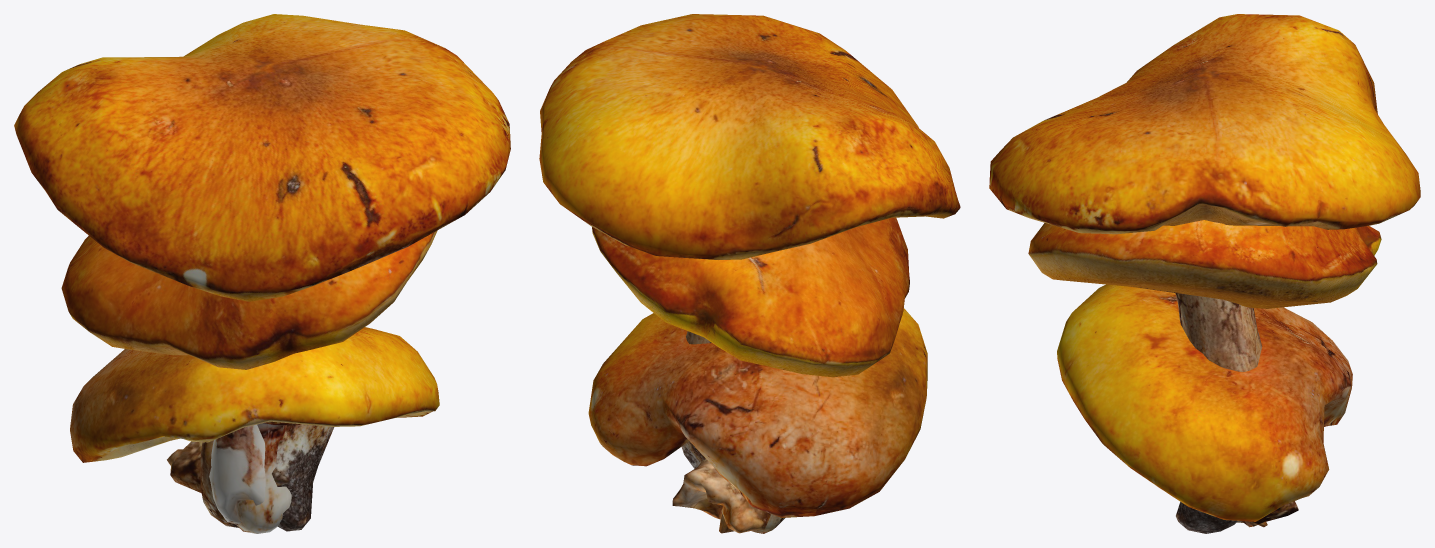
3 renders of one model, left to right at view 1: azimuth 30°, elevation 25°; view 2: azimuth 150°, elevation 25°; view 3: azimuth 270°, elevation 25°, orthographic. The views are drawn at different scales.
Parts seen in each view (by area): view 1: pdvcB_LOD0_TIER2_000, pdvcB_LOD0_TIER2_002, pdvcB_LOD0_TIER2_001, pdvcB_LOD0_TIER2_003, pdvcB_LOD0_TIER2_004; view 2: pdvcB_LOD0_TIER2_000, pdvcB_LOD0_TIER2_002, pdvcB_LOD0_TIER2_001; view 3: pdvcB_LOD0_TIER2_000, pdvcB_LOD0_TIER2_002, pdvcB_LOD0_TIER2_001.
Part boxes in pixels (x1,y1,x2,y2): pdvcB_LOD0_TIER2_000: [14, 14, 510, 531]; pdvcB_LOD0_TIER2_002: [70, 327, 439, 492]; pdvcB_LOD0_TIER2_001: [61, 230, 437, 527]; pdvcB_LOD0_TIER2_003: [209, 424, 265, 525]; pdvcB_LOD0_TIER2_004: [236, 421, 301, 533]; pdvcB_LOD0_TIER2_000: [539, 14, 960, 468]; pdvcB_LOD0_TIER2_002: [588, 308, 927, 533]; pdvcB_LOD0_TIER2_001: [592, 217, 909, 533]; pdvcB_LOD0_TIER2_000: [989, 14, 1420, 533]; pdvcB_LOD0_TIER2_002: [1057, 284, 1352, 527]; pdvcB_LOD0_TIER2_001: [1028, 220, 1381, 522].
Size of the model in its own units: 0.1 by 0.1095 by 0.0954.
1 material, 1 textured.
